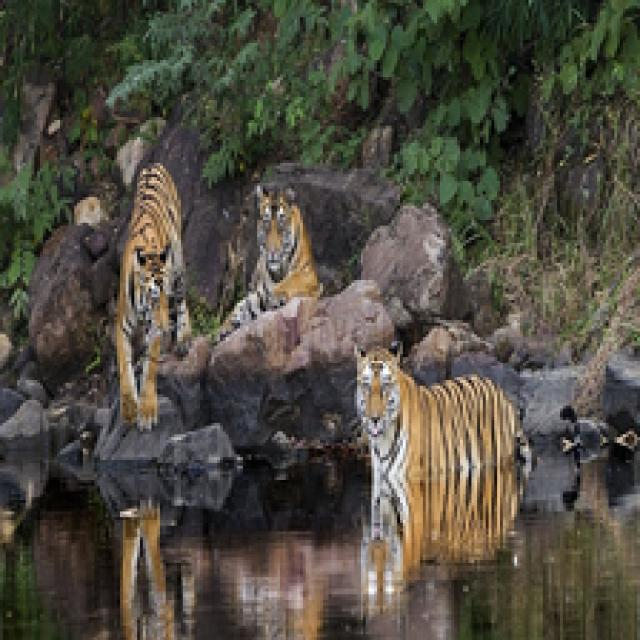tiger: (354, 349, 533, 566), (117, 152, 189, 429), (240, 168, 341, 347)
